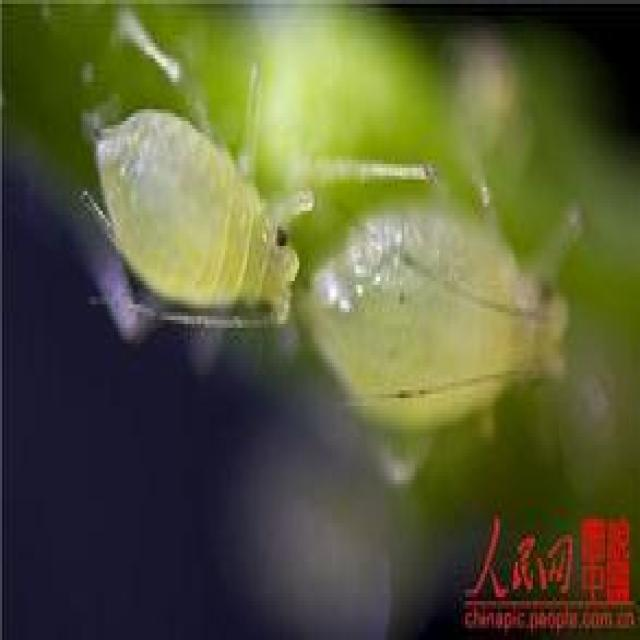Aphids: (287, 157, 606, 469), (56, 20, 329, 368)
